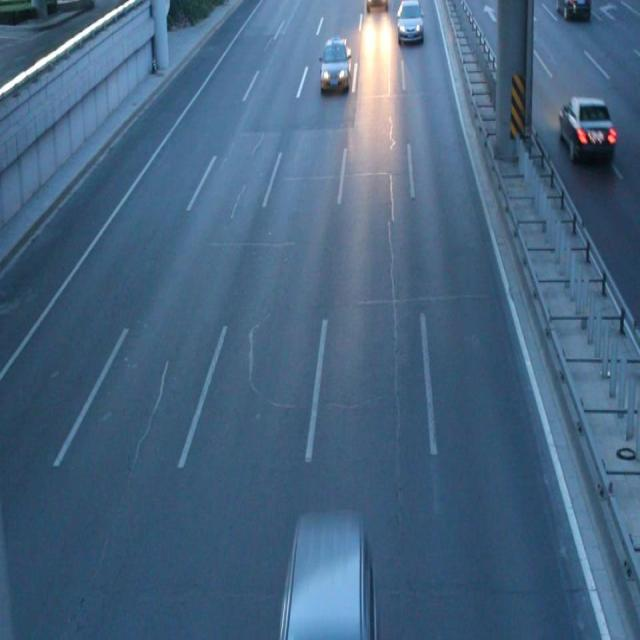car: (279, 513, 380, 640), (319, 38, 352, 92), (396, 1, 424, 42)
